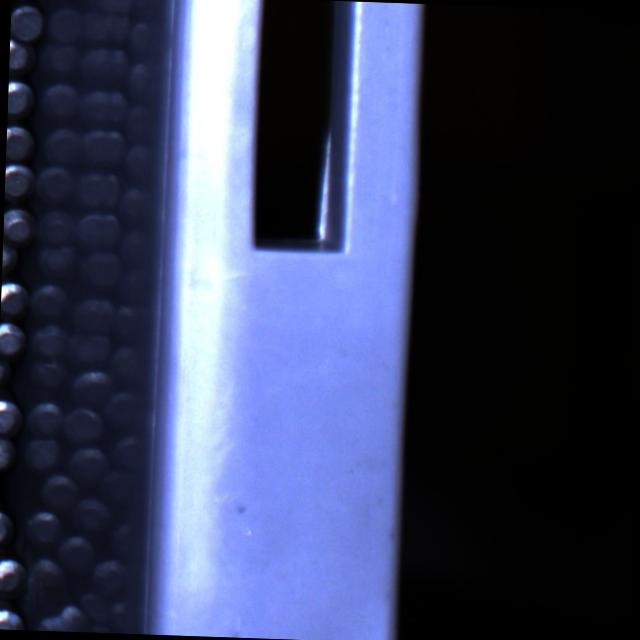tool: (10, 4, 46, 41), (2, 207, 36, 245), (4, 159, 34, 200), (0, 557, 27, 599), (6, 128, 34, 163), (0, 320, 24, 358), (8, 37, 34, 72), (0, 394, 22, 434), (7, 81, 31, 113), (0, 506, 14, 548), (1, 248, 22, 274), (0, 433, 14, 470), (0, 609, 23, 630)
